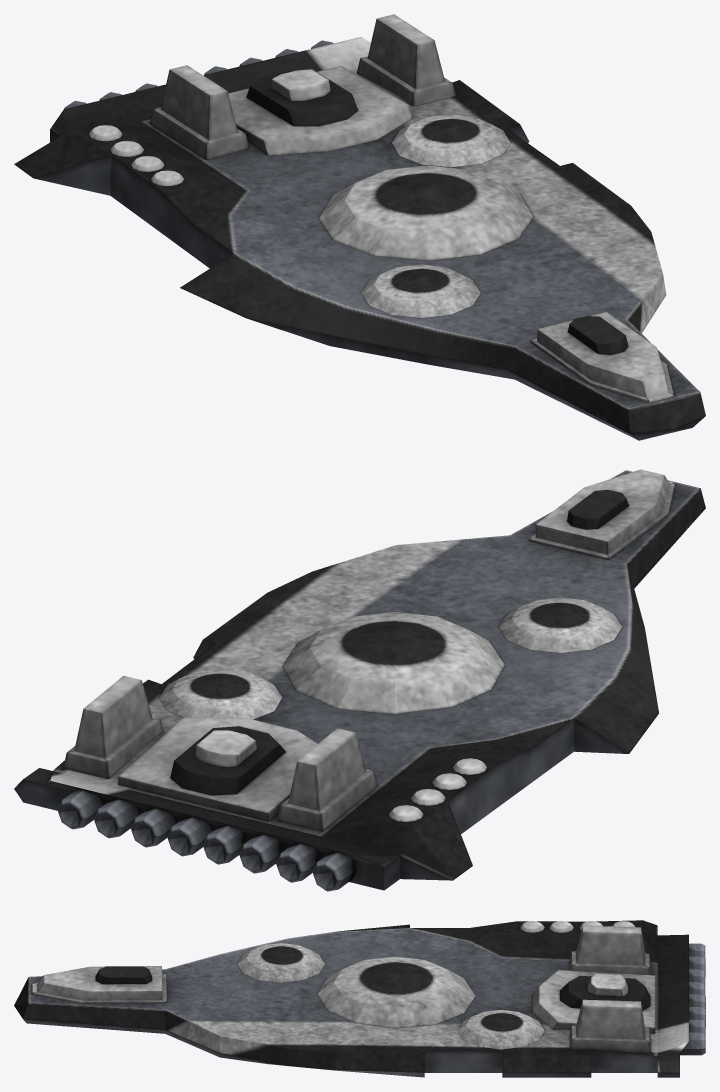
The model's file is Repubblica_5.fbx.
The picture shows the model from 3 angles, top to bottom: view 1: azimuth 30°, elevation 25°; view 2: azimuth 150°, elevation 25°; view 3: azimuth 270°, elevation 25°; orthographic projection. The views are drawn at different scales.
Visible parts, largest first — view 1: Texture, Colore1; view 2: Texture, Colore1; view 3: Colore1, Texture.
Part boxes in pixels (x1,y1,x2,y2): Texture: (14, 40, 705, 440); Colore1: (88, 14, 673, 402); Texture: (14, 470, 705, 891); Colore1: (46, 469, 675, 831); Colore1: (31, 921, 688, 1072); Texture: (14, 920, 705, 1077).
Size of the model in its own units: 7.28 by 1.38 by 14.37.
Materials: 2 (2 with a texture image).
